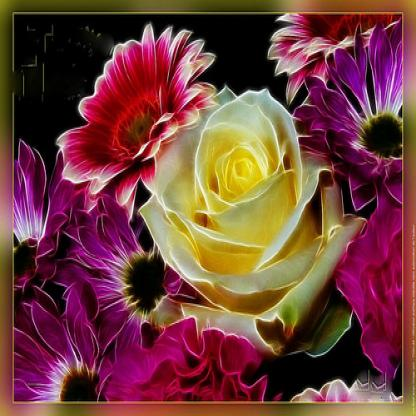ROSE-MAWAR: (138, 71, 359, 336)
